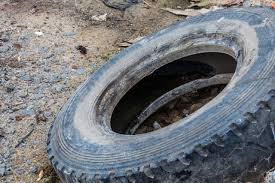tire: (47, 7, 275, 182)
